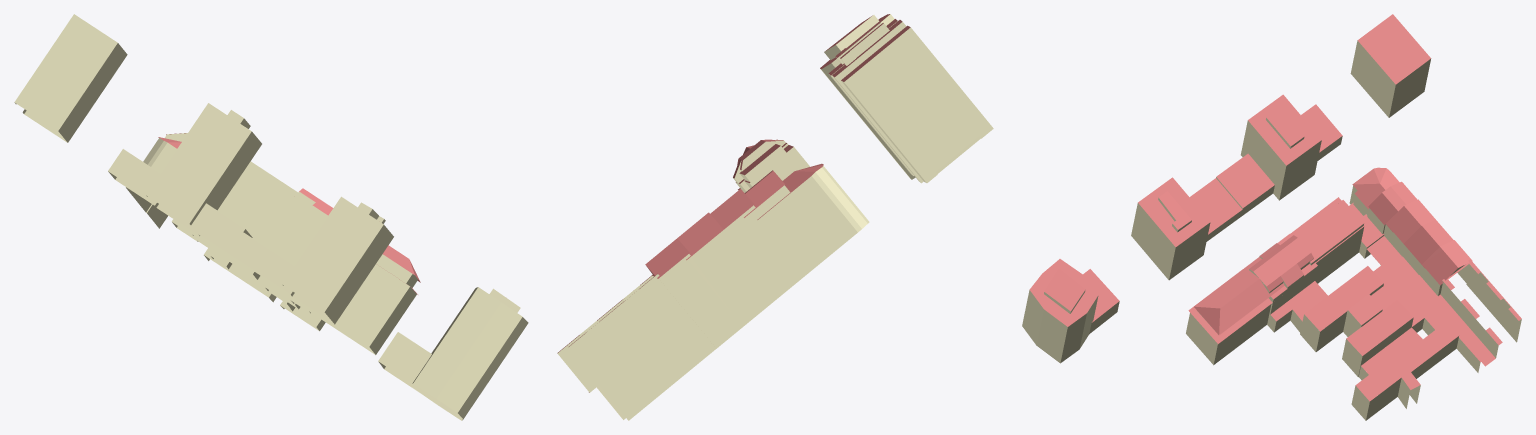
File: tile_014.glb
3 renders of one model, left to right at view 1: azimuth 30°, elevation 25°; view 2: azimuth 150°, elevation 25°; view 3: azimuth 270°, elevation 25°, orthographic. The views are drawn at different scales.
Parts seen in each view (by area): view 1: Batched_Building_ID_FDACDEF5-1598-4890-B4DA-609D0D36862F, Batched_Building_ID_3A2D697A-E6F2-4496-B84F-6D90655C3014; view 2: Batched_Building_ID_FDACDEF5-1598-4890-B4DA-609D0D36862F, Batched_Building_ID_3A2D697A-E6F2-4496-B84F-6D90655C3014; view 3: Batched_Building_ID_3A2D697A-E6F2-4496-B84F-6D90655C3014, Batched_Building_ID_FDACDEF5-1598-4890-B4DA-609D0D36862F.
Boxes of the visible parts, x1,y1,x2,y2 form: Batched_Building_ID_FDACDEF5-1598-4890-B4DA-609D0D36862F: [14, 14, 528, 420]; Batched_Building_ID_3A2D697A-E6F2-4496-B84F-6D90655C3014: [158, 133, 420, 294]; Batched_Building_ID_FDACDEF5-1598-4890-B4DA-609D0D36862F: [557, 14, 993, 420]; Batched_Building_ID_3A2D697A-E6F2-4496-B84F-6D90655C3014: [557, 14, 910, 392]; Batched_Building_ID_3A2D697A-E6F2-4496-B84F-6D90655C3014: [1029, 14, 1521, 401]; Batched_Building_ID_FDACDEF5-1598-4890-B4DA-609D0D36862F: [1022, 40, 1521, 420].
Bounding box in the file's own units: 110 × 115 × 168.
